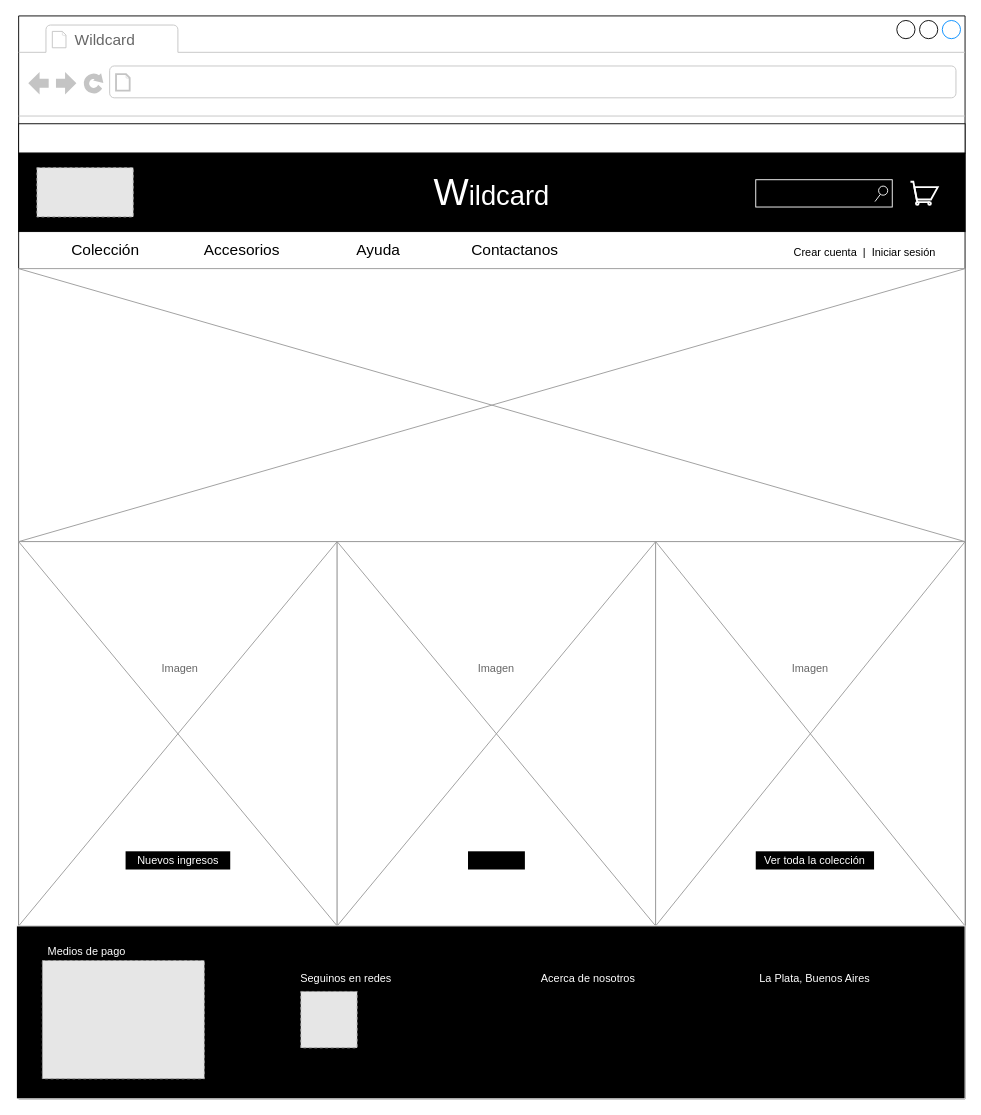
Image size: 981x1115. Some labels were removed from this diagram. Grey dashed boxes stand in for pictures. Each missing label, with the centre of its shape:
ENVÍOS A TODO EL PAÍS: the point at 491,138
SALE: the point at 496,860
Slider: the point at 491,405
www.wildcard.com.ar: the point at 250,87
